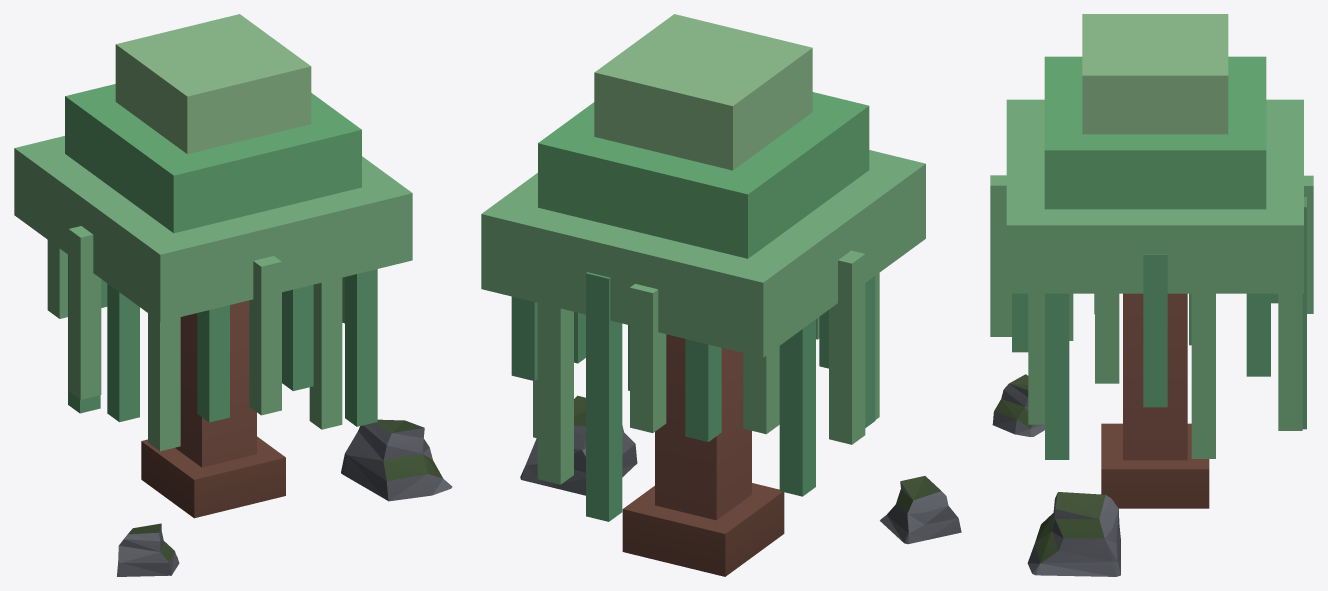
The model's file is old-willow.glb.
3 renders of one model, left to right at view 1: azimuth 30°, elevation 25°; view 2: azimuth 150°, elevation 25°; view 3: azimuth 270°, elevation 25°, orthographic. The views are drawn at different scales.
Parts seen in each view (by area): view 1: old-willow_body; view 2: old-willow_body; view 3: old-willow_body.
Boxes of the visible parts, x1,y1,x2,y2 form: old-willow_body: (14,14,452,576); old-willow_body: (481,14,961,576); old-willow_body: (990,14,1313,576).
Size of the model in its own units: 7.57 by 9 by 5.98.
